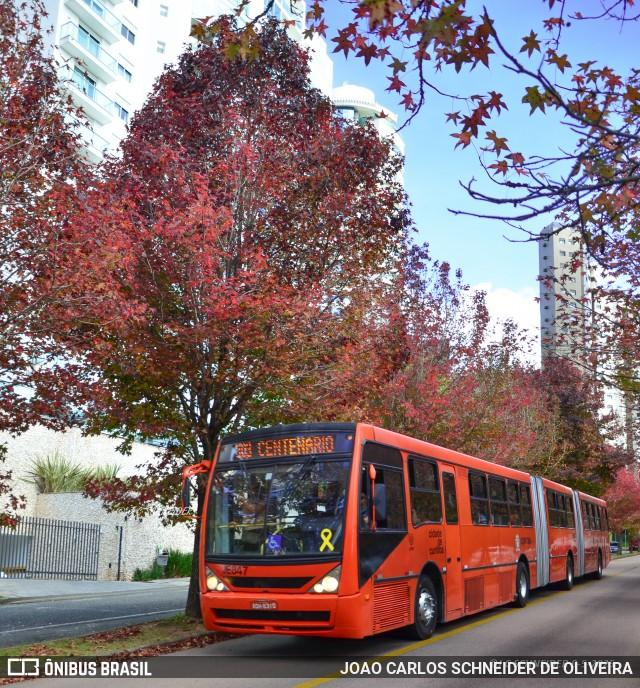CENTENARIO: (255, 434, 337, 462)
